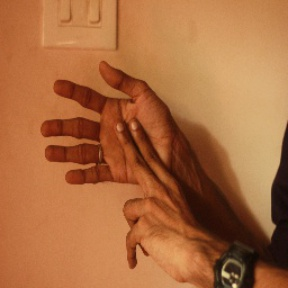N: (26, 59, 200, 235)
